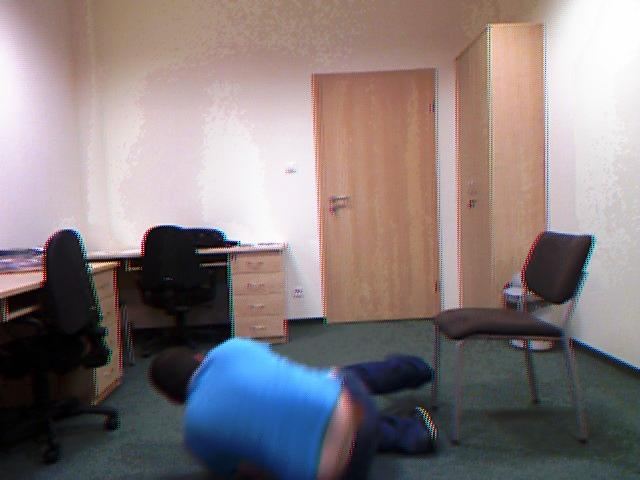fall: (149, 339, 436, 479)
